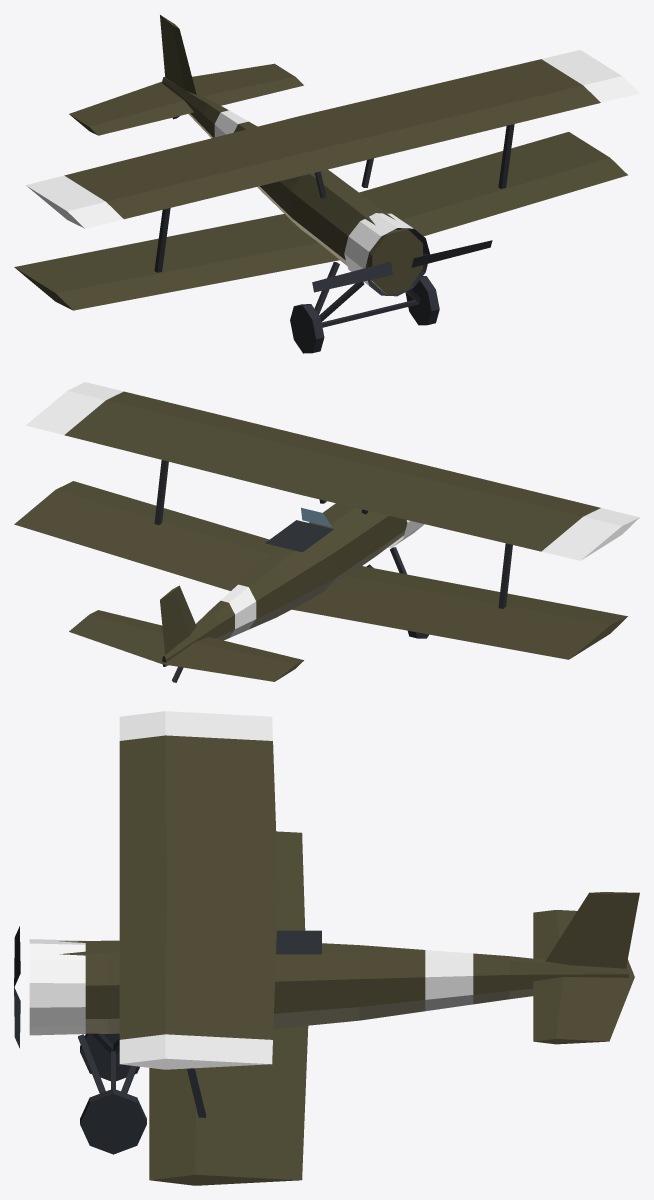
File: sopwith_pup_lod.glb
The picture shows the model from 3 angles, top to bottom: view 1: azimuth 30°, elevation 25°; view 2: azimuth 150°, elevation 25°; view 3: azimuth 270°, elevation 25°; orthographic projection. The views are drawn at different scales.
Visible parts, largest first — view 1: body, prop; view 2: body; view 3: body, prop.
Part boxes in pixels (x1,y1,x2,y2): body: (14,15,639,353); prop: (312,240,492,292); body: (14,382,639,682); body: (29,711,639,1185); prop: (14,926,20,1048).
Size of the model in its own units: 8.08 by 2.51 by 6.15.
